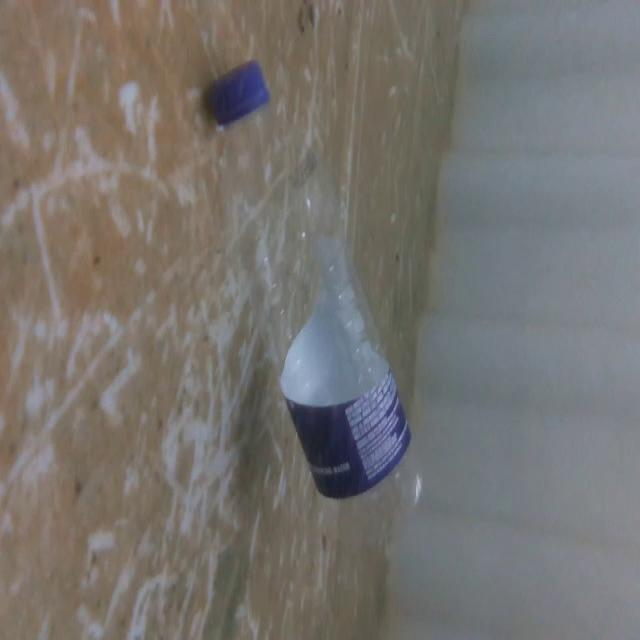plastic bottle: (209, 51, 447, 526)
